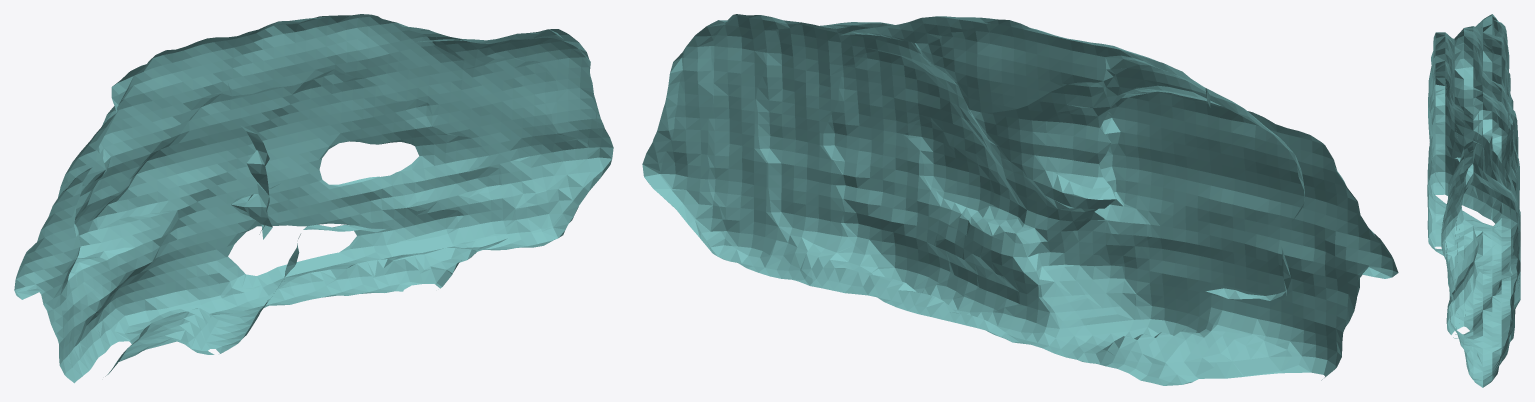
Rendered from 051__LH_Par_C_DtP__full_20fps__surface.glb.
3 views of the same model, side by side, from view 1: azimuth 30°, elevation 25°; view 2: azimuth 150°, elevation 25°; view 3: azimuth 270°, elevation 25° (orthographic). The views are drawn at different scales.
Visible parts, largest first — view 1: world; view 2: world; view 3: world.
Part boxes in pixels (bbox=[...]): world: bbox=[14, 14, 613, 383]; world: bbox=[642, 14, 1398, 385]; world: bbox=[1427, 14, 1520, 387].
Size of the model in its own units: 246 by 104 by 39.52.
